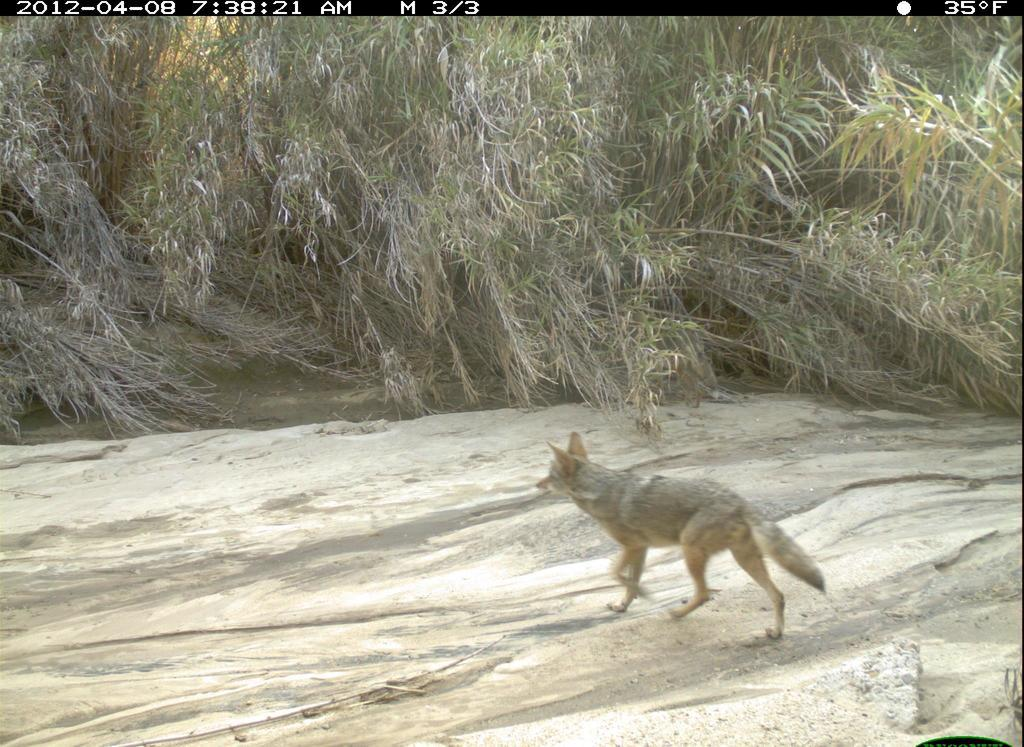coyote: (519, 420, 839, 656)
